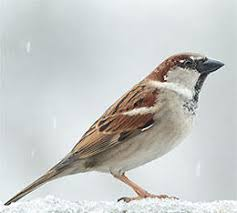hsparrow: (1, 43, 230, 212)
